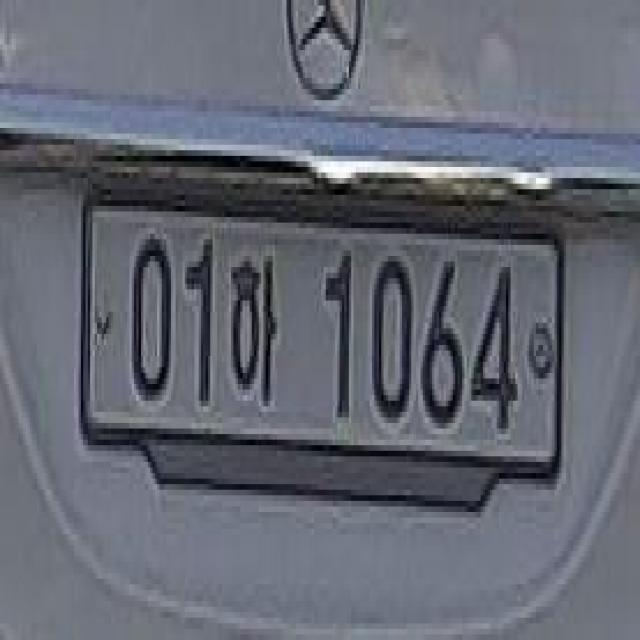illegal_plate: (79, 174, 568, 525)
